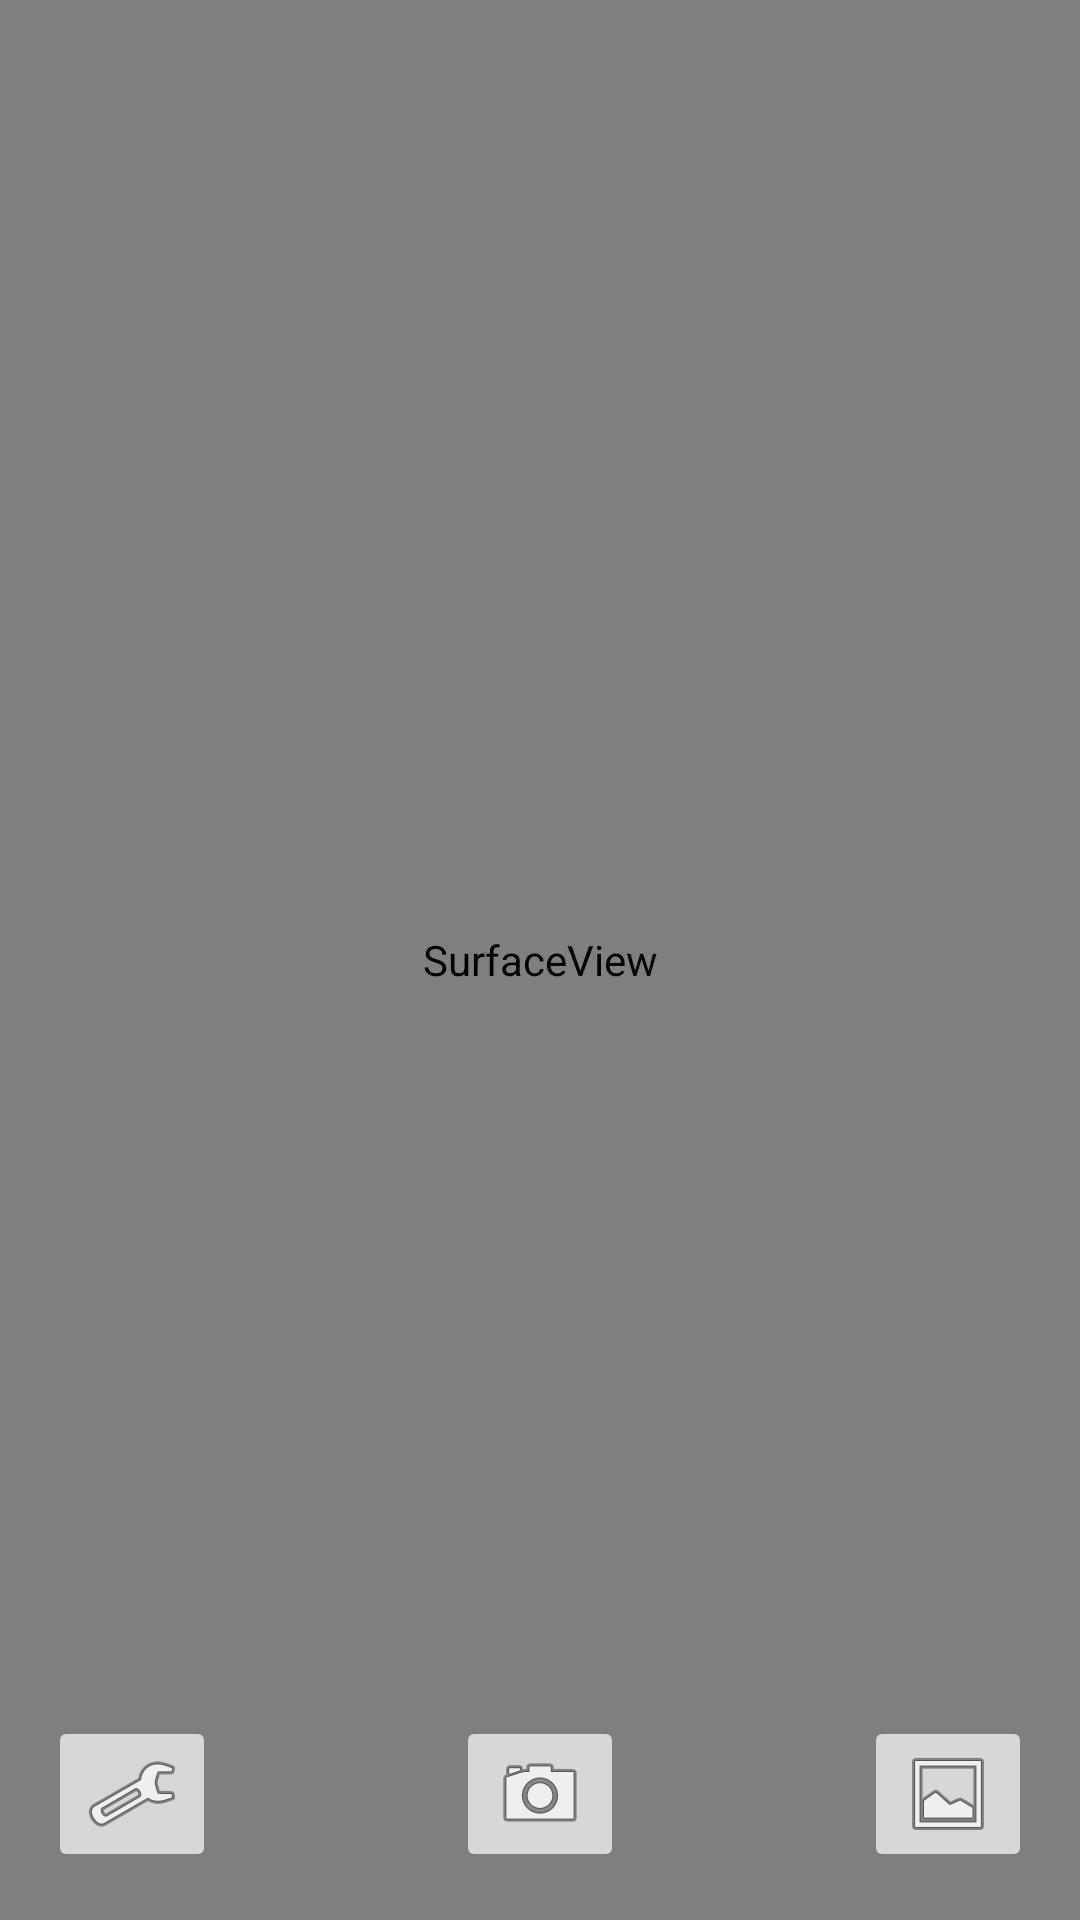

Point at icon controls on the screen. Image size 1080 × 1920, points as (x=x, y=y).
camera: (x=540, y=1794)
gallery: (x=948, y=1794)
preferences: (x=132, y=1794)
